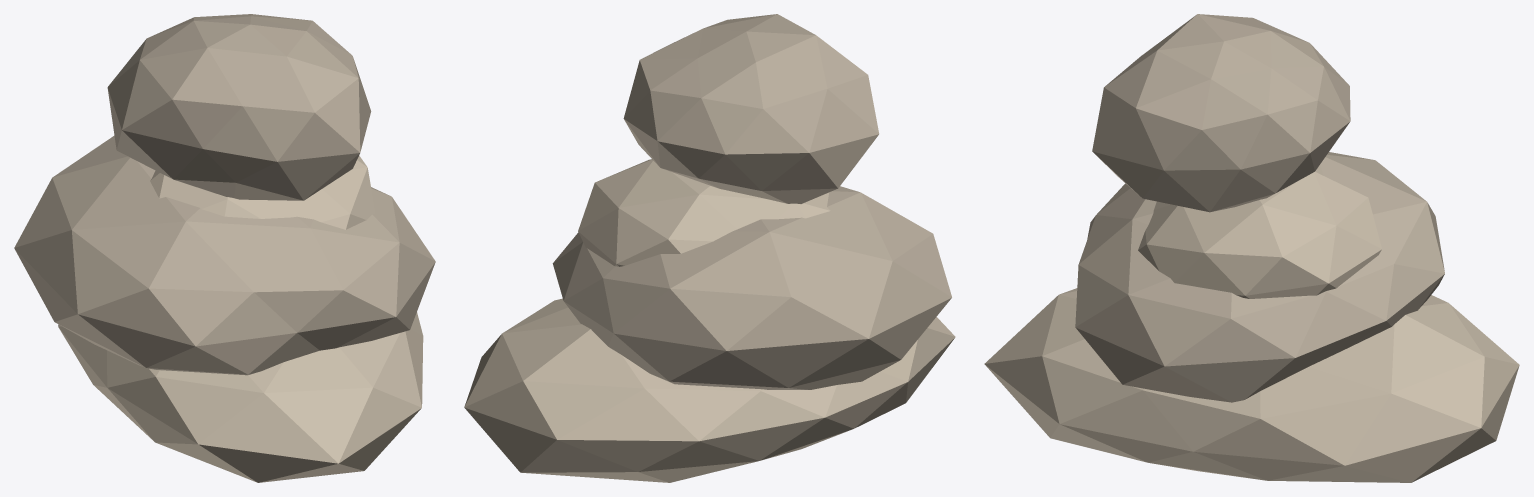
Rendered from campo_rock_slate_8.glb.
3 renders of one model, left to right at view 1: azimuth 30°, elevation 25°; view 2: azimuth 150°, elevation 25°; view 3: azimuth 270°, elevation 25°, orthographic.
Parts seen in each view (by area): view 1: campo_rock_slate_8.glb; view 2: campo_rock_slate_8.glb; view 3: campo_rock_slate_8.glb.
Boxes of the visible parts, bbox=[...] form: campo_rock_slate_8.glb: bbox=[14, 14, 435, 482]; campo_rock_slate_8.glb: bbox=[464, 14, 955, 482]; campo_rock_slate_8.glb: bbox=[984, 14, 1519, 482].
Size of the model in its own units: 1.67 by 1.63 by 2.
